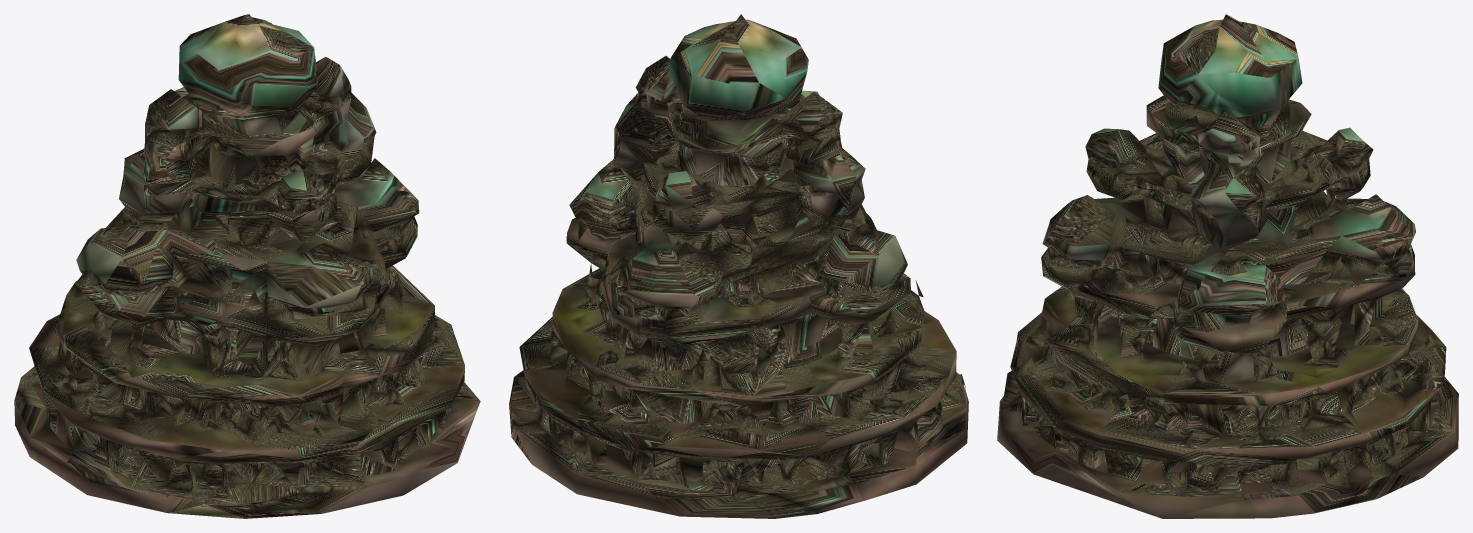
File: Verdant_Palace.glb
The picture shows the model from 3 angles, left to right: view 1: azimuth 30°, elevation 25°; view 2: azimuth 150°, elevation 25°; view 3: azimuth 270°, elevation 25°; orthographic projection.
Visible parts, largest first — view 1: Verdant_Palace; view 2: Verdant_Palace; view 3: Verdant_Palace.
Part boxes in pixels (x1=…): Verdant_Palace: x1=14, y1=14, x2=480, y2=518; Verdant_Palace: x1=509, y1=14, x2=968, y2=518; Verdant_Palace: x1=997, y1=14, x2=1458, y2=518.
Size of the model in its own units: 1.97 by 1.94 by 1.98.
1 material, 1 textured.
